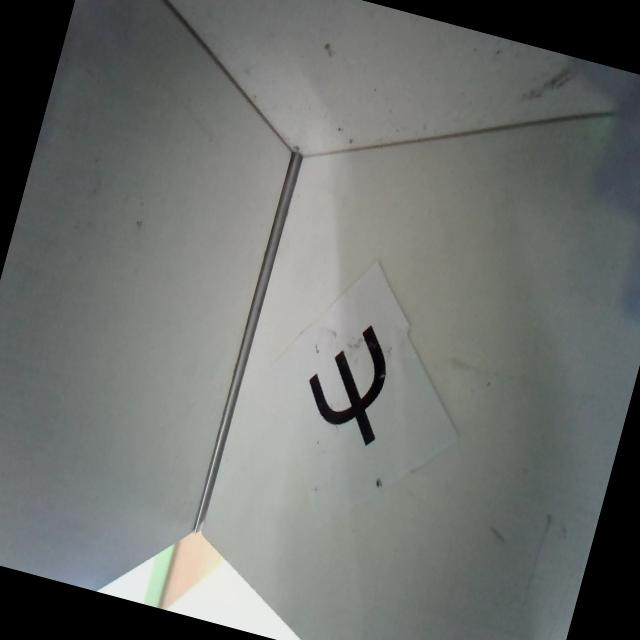nedoF: (295, 310, 404, 448)
